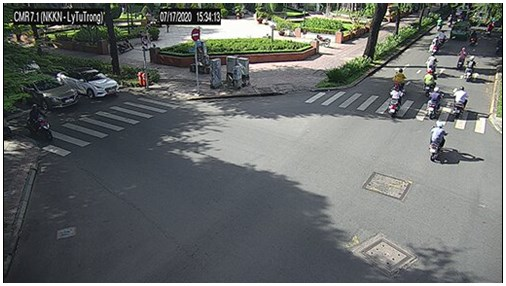xe_hoi: (55, 68, 119, 98), (33, 77, 80, 107), (449, 21, 471, 42)
xe_may: (27, 104, 54, 142), (426, 122, 449, 163), (425, 87, 444, 119), (386, 84, 403, 117), (452, 85, 468, 120), (117, 37, 134, 55), (465, 56, 476, 81), (456, 47, 468, 68), (425, 52, 437, 73), (393, 68, 406, 87), (428, 35, 439, 55), (437, 30, 446, 48), (469, 30, 478, 48), (486, 22, 495, 36), (436, 16, 443, 30), (445, 14, 452, 28)
